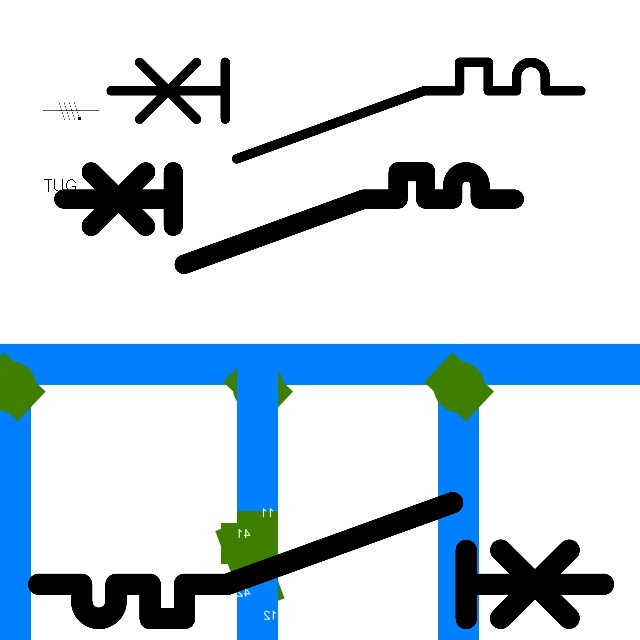interruptor_termomagnetico: (24, 488, 618, 633), (98, 50, 592, 171), (52, 160, 526, 276)
